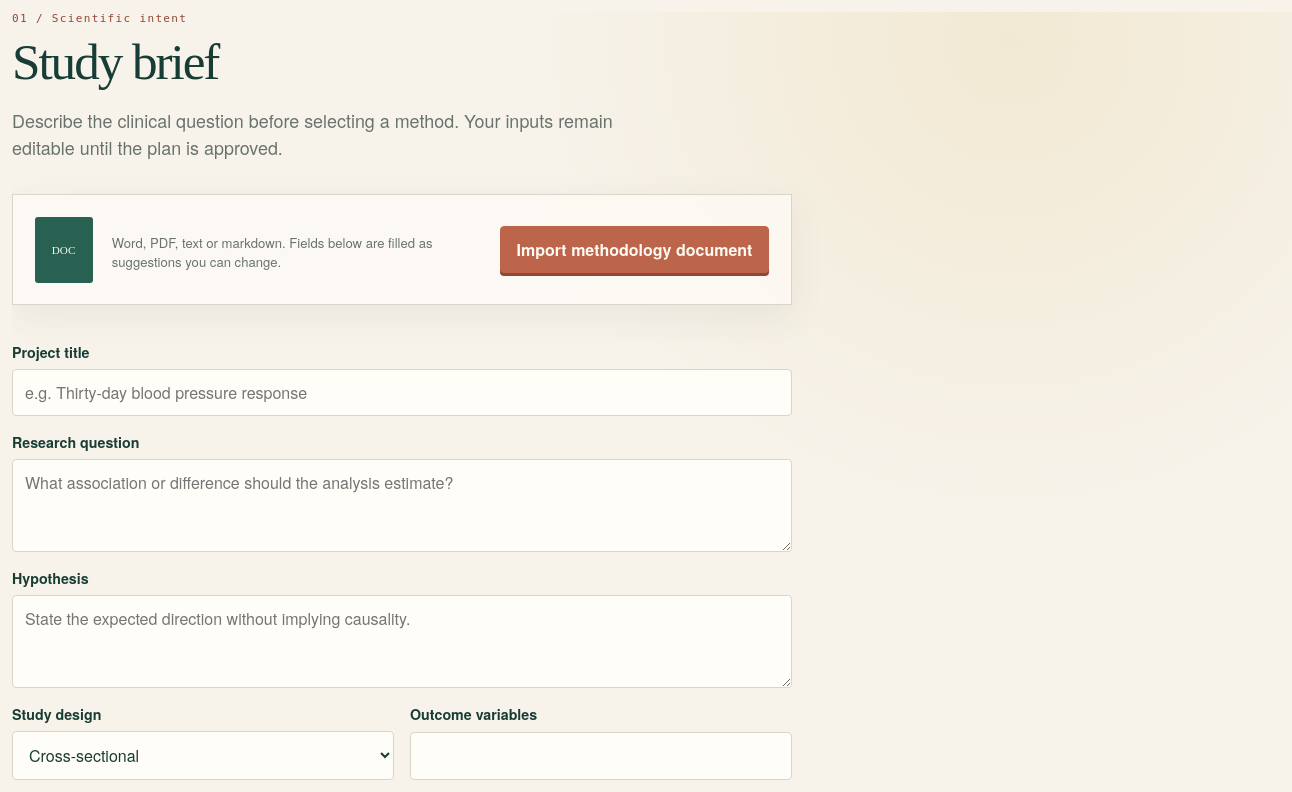
keys the error message off the AnalysisApiError code, not the message text
This screenshot has width=1292, height=792.
Click the button "Import methodology document". click: point(634, 250)
box: [500, 226, 769, 273]
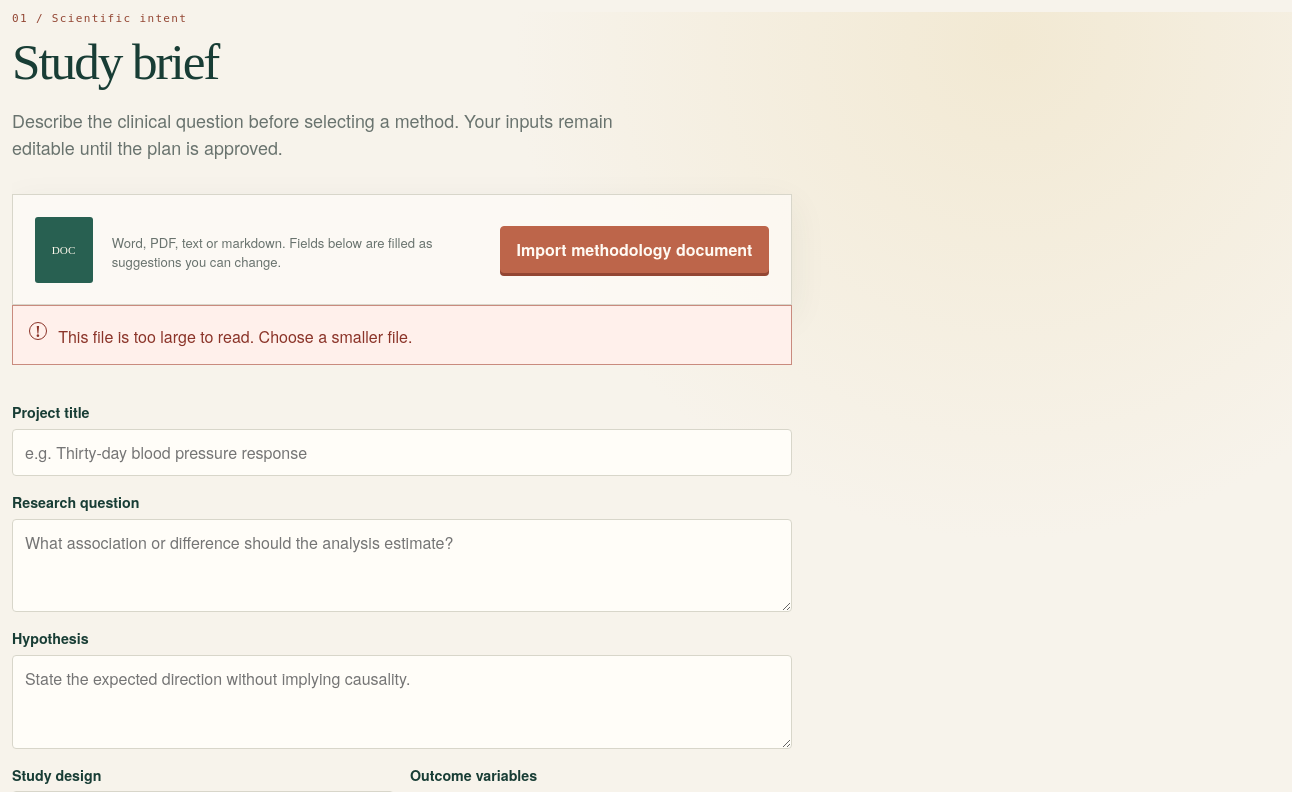
Result: the message shows "too large" at [58, 326, 412, 348]
